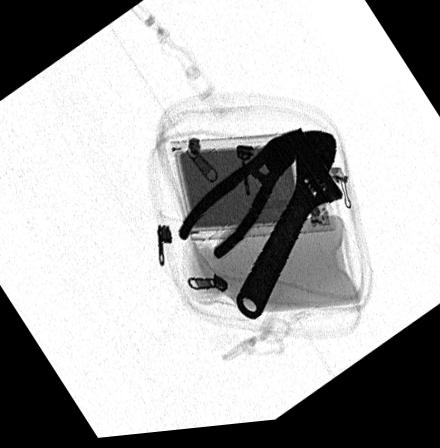Pliers: (177, 132, 302, 264)
Powerbank: (170, 134, 335, 244)
Wrench: (236, 134, 345, 323)
